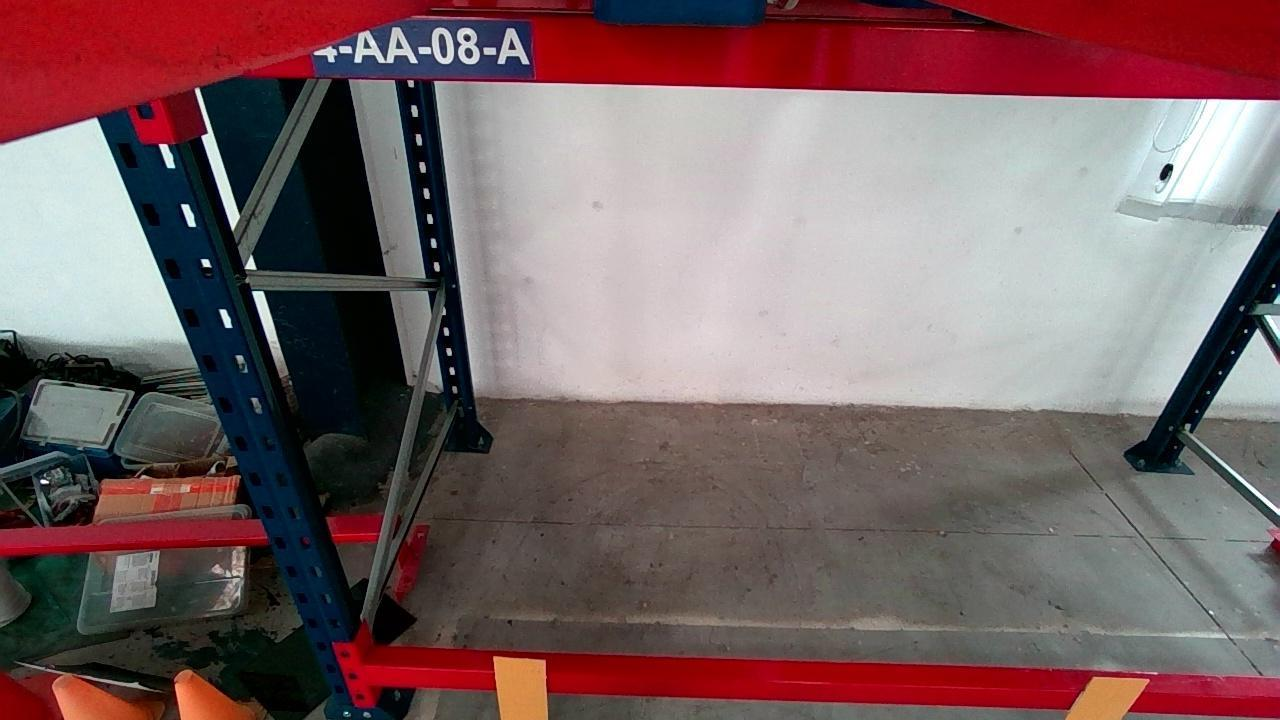h_rack: (229, 15, 1279, 103), (361, 666, 1280, 720)
orange_strip: (1065, 674, 1150, 720), (497, 655, 549, 720)
